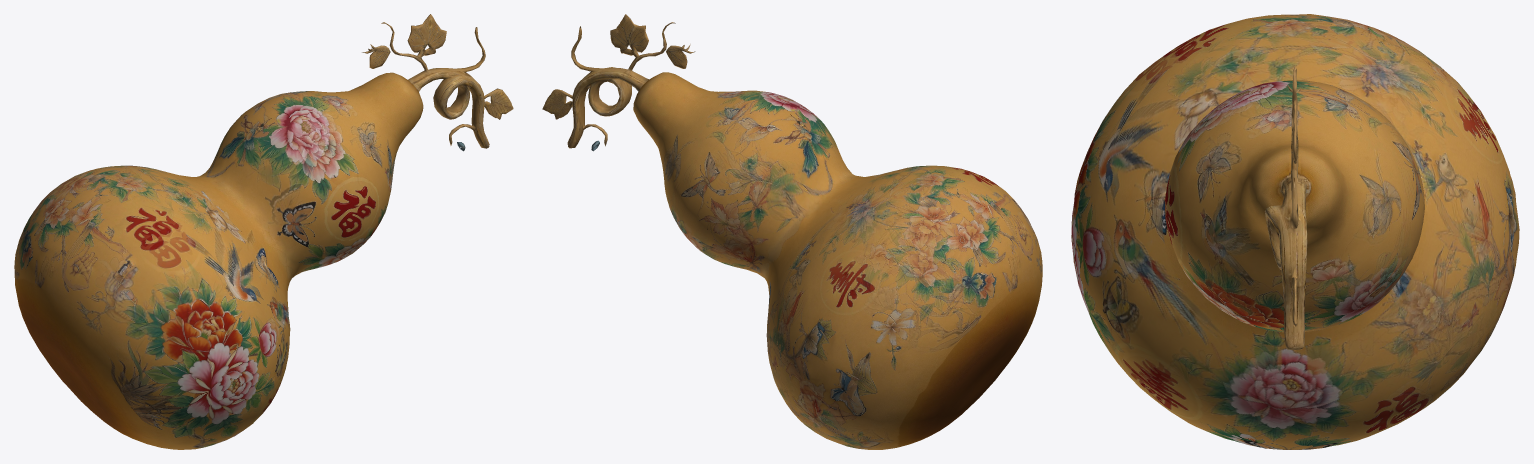
The model's file is guofengbeib2.fbx.
3 renders of one model, left to right at view 1: azimuth 30°, elevation 25°; view 2: azimuth 150°, elevation 25°; view 3: azimuth 270°, elevation 25°, orthographic. The views are drawn at different scales.
Visible parts, largest first — view 1: node_b3a4a432; view 2: node_b3a4a432; view 3: node_b3a4a432.
Part boxes in pixels (x1=…): node_b3a4a432: x1=14, y1=14, x2=513, y2=449; node_b3a4a432: x1=542, y1=14, x2=1042, y2=449; node_b3a4a432: x1=1071, y1=14, x2=1519, y2=449.
Bounding box in the file's own units: 1.43 × 1.04 × 0.8205.
